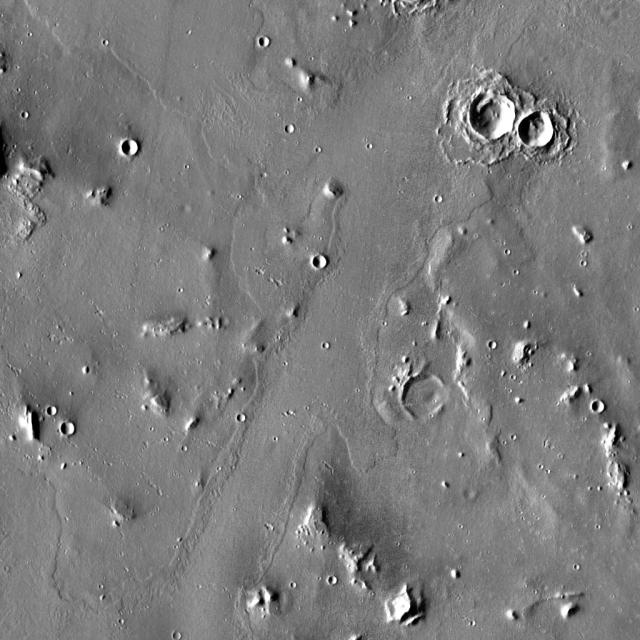crater: (403, 374, 449, 419), (473, 94, 518, 138), (521, 112, 557, 146), (312, 256, 327, 270), (123, 140, 137, 154), (61, 423, 74, 436), (591, 401, 604, 414), (465, 487, 477, 498), (48, 406, 58, 416), (221, 316, 231, 326), (259, 37, 269, 46), (287, 125, 296, 134), (238, 414, 248, 422), (489, 341, 498, 349), (175, 632, 183, 640), (330, 577, 337, 584), (22, 112, 28, 118)
